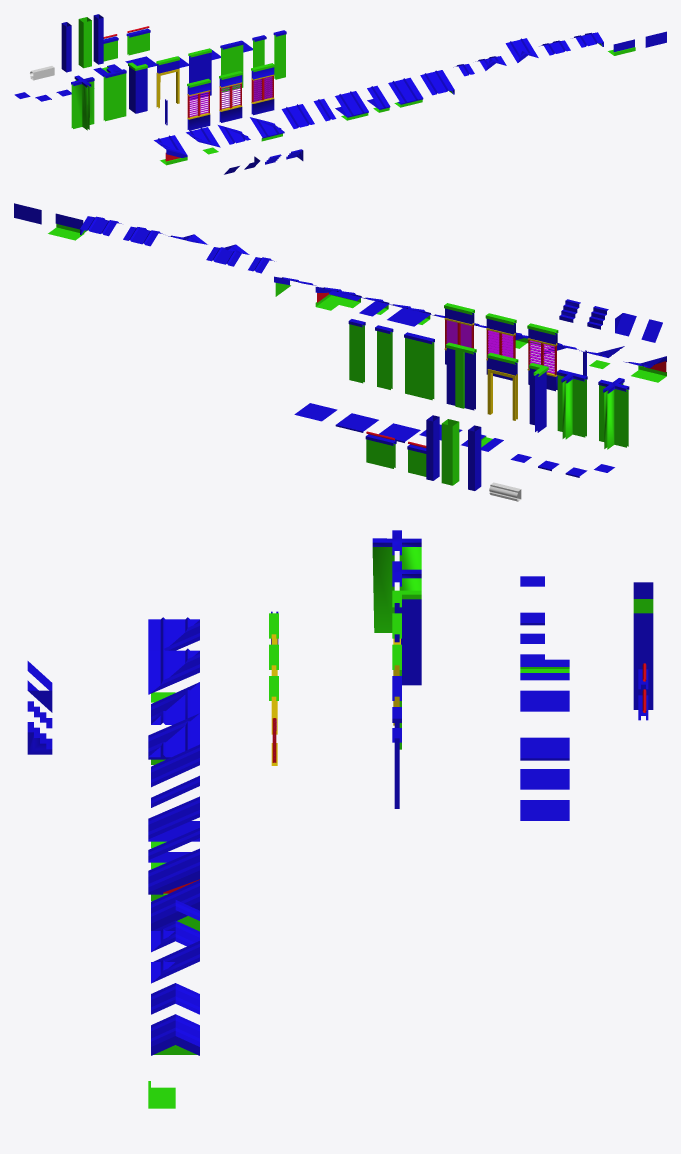
File: classroom_architecture.fbx
3 renders of one model, top to bottom at view 1: azimuth 30°, elevation 25°; view 2: azimuth 150°, elevation 25°; view 3: azimuth 270°, elevation 25°, orthographic. The views are drawn at different scales.
Parts seen in each view (by area): view 1: msh_wallQuad, msh_wallTri, msh_windowClosed, msh_windowOpen, msh_windowHalf, msh_wallCorner, msh_railingPillar, msh_wallBasic, msh_wallPillar, msh_railingCorner, msh_roofEdge, msh_roofSideEdge (+19 smaller); view 2: msh_wallQuad, msh_wallTri, msh_wallPillar, msh_wallBasic, msh_windowOpen, msh_railingPillar, msh_windowHalf, msh_windowClosed, msh_railingCorner, msh_wallCorner, msh_wallDoor, msh_wallEdge (+13 smaller); view 3: msh_wallQuad, msh_wallCorner, msh_roofCornerIn, msh_railingPillar, msh_roofCenterEdge, msh_roofSideEdge, msh_roofCornerEdge, msh_roofEdge, msh_roofCornerInEdge, msh_roofCornerOut, msh_roofSideFill, msh_floorCorner (+9 smaller).
Part boxes in pixels (x1,y1,x2,y2): msh_wallQuad: [71, 75, 94, 130]; msh_wallTri: [103, 67, 126, 121]; msh_windowClosed: [251, 63, 274, 115]; msh_windowOpen: [187, 78, 210, 130]; msh_windowHalf: [219, 71, 242, 122]; msh_wallCorner: [128, 62, 147, 113]; msh_railingPillar: [93, 14, 118, 64]; msh_wallBasic: [220, 40, 243, 91]; msh_wallPillar: [188, 48, 211, 99]; msh_railingCorner: [78, 17, 91, 68]; msh_roofEdge: [335, 91, 368, 120]; msh_roofSideEdge: [388, 77, 423, 107]; msh_wallQuad: [598, 378, 629, 449]; msh_wallTri: [556, 369, 587, 439]; msh_wallPillar: [445, 342, 476, 410]; msh_wallBasic: [404, 332, 434, 400]; msh_windowOpen: [527, 323, 558, 391]; msh_railingPillar: [407, 415, 439, 480]; msh_windowHalf: [485, 313, 516, 380]; msh_windowClosed: [444, 303, 474, 364]; msh_railingCorner: [441, 419, 459, 485]; msh_wallCorner: [529, 363, 548, 432]; msh_wallDoor: [487, 352, 518, 420]; msh_wallEdge: [375, 325, 393, 389]; msh_wallQuad: [372, 530, 421, 632]; msh_wallCorner: [392, 590, 421, 685]; msh_roofCornerIn: [148, 648, 199, 702]; msh_railingPillar: [633, 613, 653, 709]; msh_roofCenterEdge: [151, 1014, 199, 1055]; msh_roofSideEdge: [148, 848, 199, 901]; msh_roofCornerEdge: [148, 713, 199, 764]; msh_roofEdge: [148, 796, 199, 848]; msh_roofCornerInEdge: [148, 617, 199, 650]; msh_roofCornerOut: [151, 682, 199, 724]; msh_roofSideFill: [151, 880, 199, 931]; msh_floorCorner: [520, 737, 569, 760].
Bounding box in the file's own units: 5200 × 420 × 2540.
